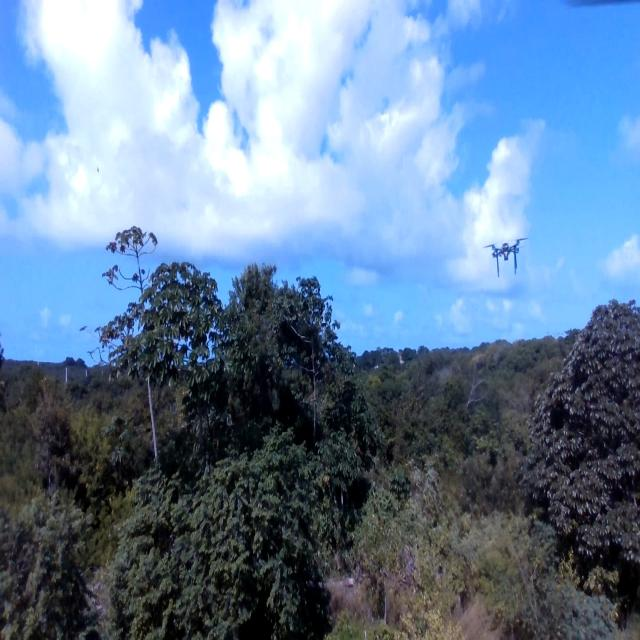-uav-: (484, 231, 533, 293)
